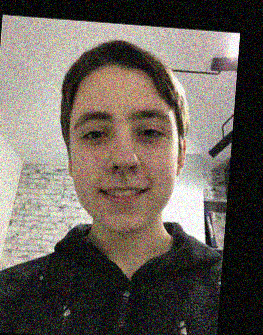without_mask: (62, 105, 179, 234)
